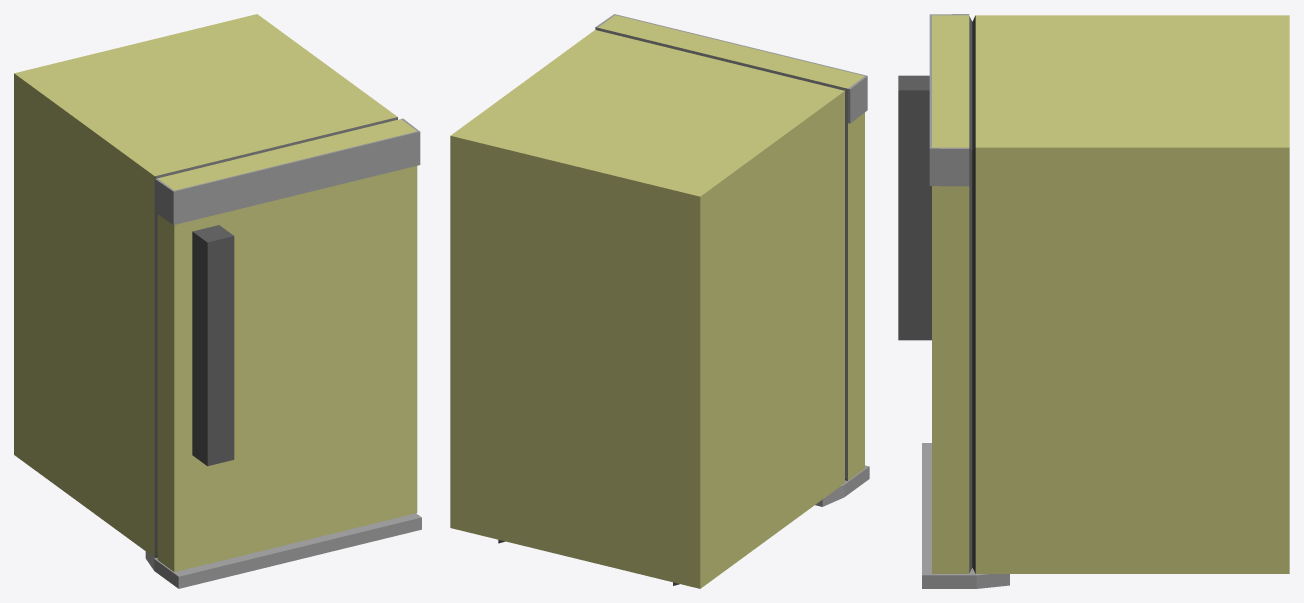
Rendered from Refrigerator4.fbx.
The picture shows the model from 3 angles, left to right: view 1: azimuth 30°, elevation 25°; view 2: azimuth 150°, elevation 25°; view 3: azimuth 270°, elevation 25°; orthographic projection. The views are drawn at different scales.
Parts seen in each view (by area): view 1: Cube.001; view 2: Cube.001; view 3: Cube.001.
Part boxes in pixels (x1=…): Cube.001: x1=14, y1=14, x2=421, y2=588; Cube.001: x1=450, y1=14, x2=869, y2=588; Cube.001: x1=898, y1=14, x2=1289, y2=588.
Bounding box in the file's own units: 0.918 × 1.4 × 1.12.
